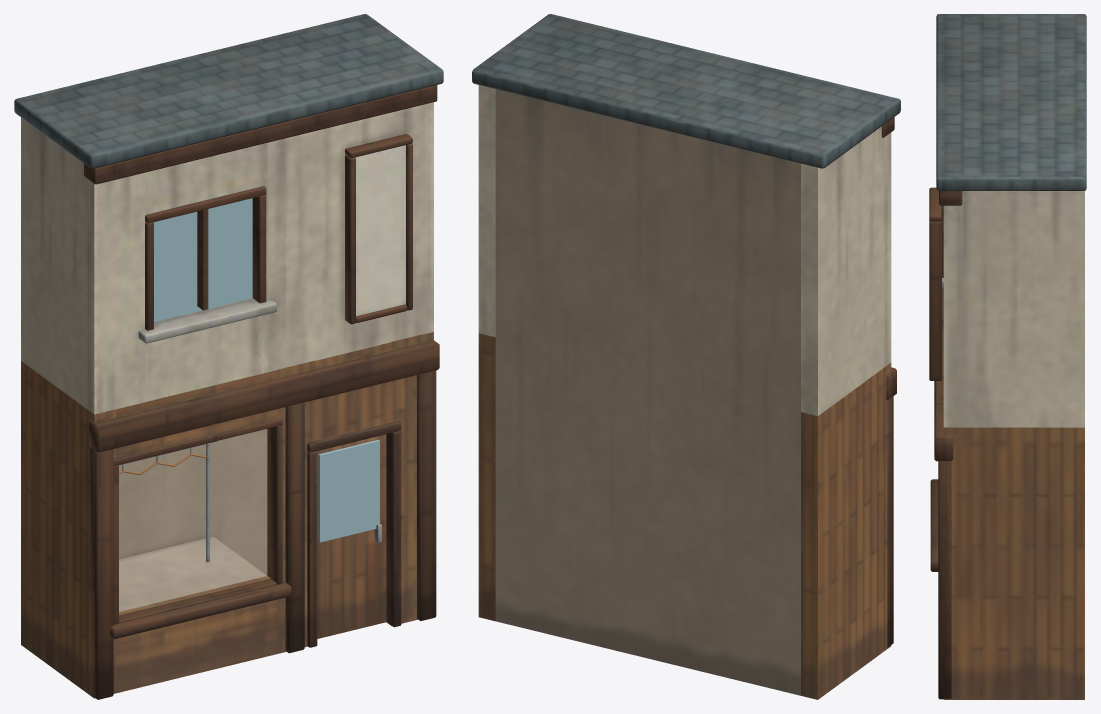
File: filler_tailor.glb
3 views of the same model, side by side, from view 1: azimuth 30°, elevation 25°; view 2: azimuth 150°, elevation 25°; view 3: azimuth 270°, elevation 25° (orthographic). The views are drawn at different scales.
Parts seen in each view (by area): view 1: filler_tailor; view 2: filler_tailor; view 3: filler_tailor.
Boxes of the visible parts, <box> form: filler_tailor: <box>14,14,443,699</box>; filler_tailor: <box>472,14,900,699</box>; filler_tailor: <box>929,14,1086,699</box>.
Size of the model in its own units: 4.16 by 6.16 by 1.68.
9 materials, 8 textured.
